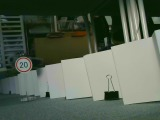speed_20: (15, 57, 32, 73)
